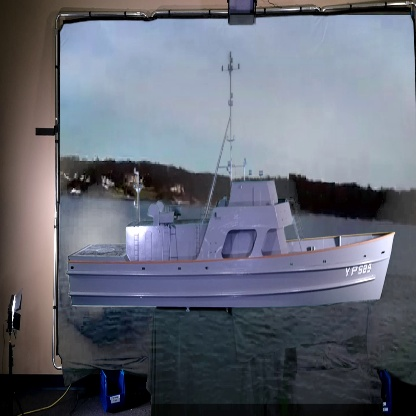YP689: (67, 32, 397, 306)
